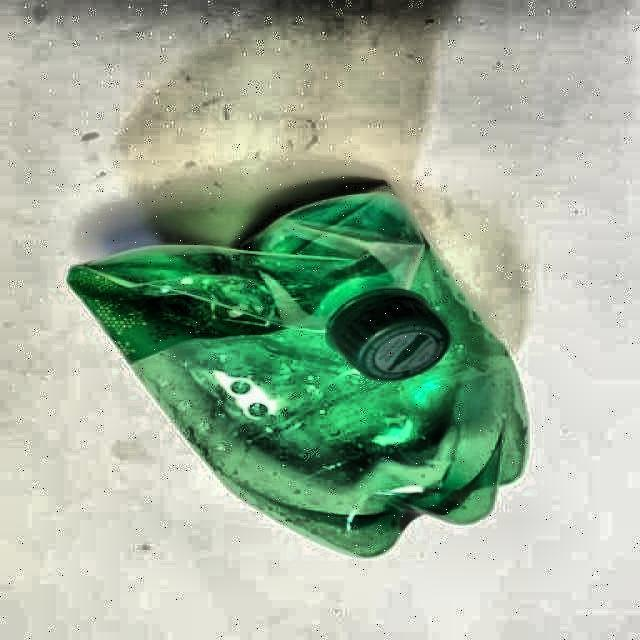plastic: (68, 191, 526, 556)
